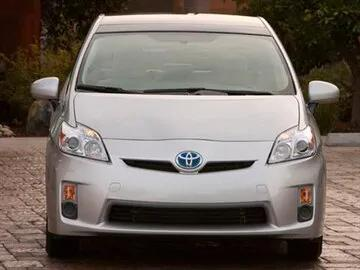Toyota Prius: (28, 10, 342, 243)
